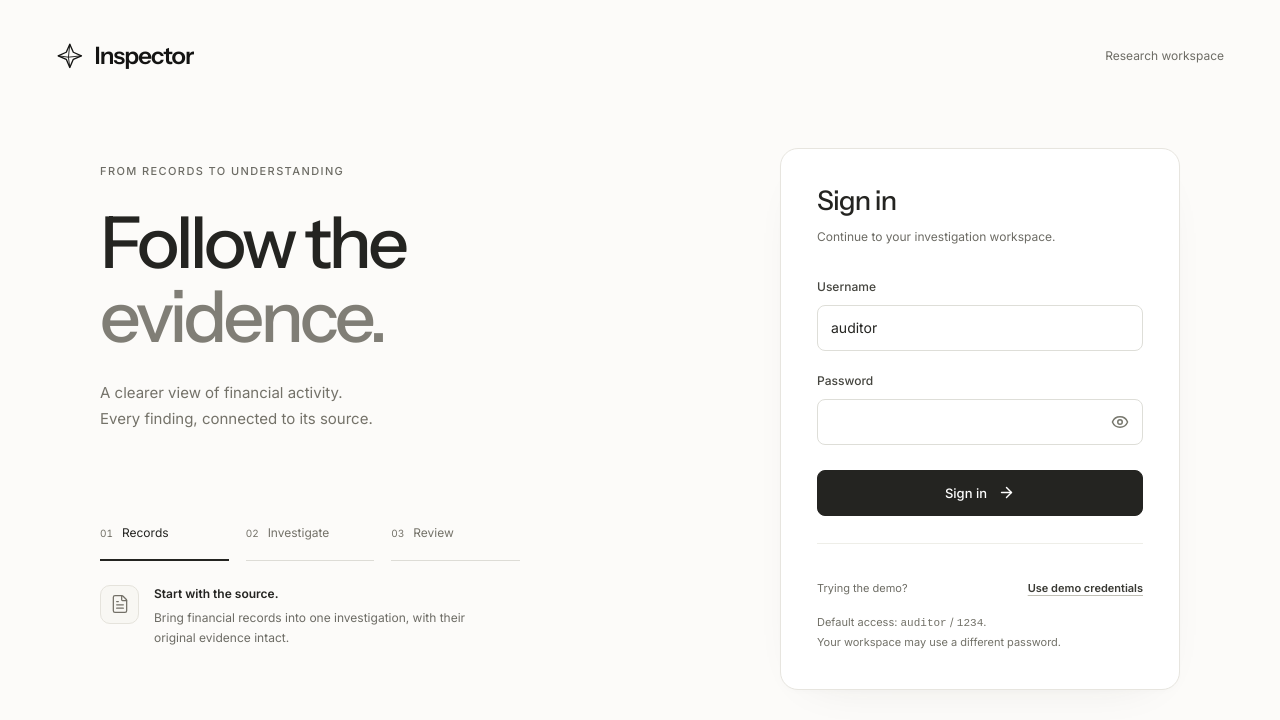
Test: DemoLogin › shows a truthful English error for status 401 / credenciales_invalidas
This screenshot has width=1280, height=720.
Type "1234" into the password field labelled "Password" at point(980, 422), box [817,399,1143,445]
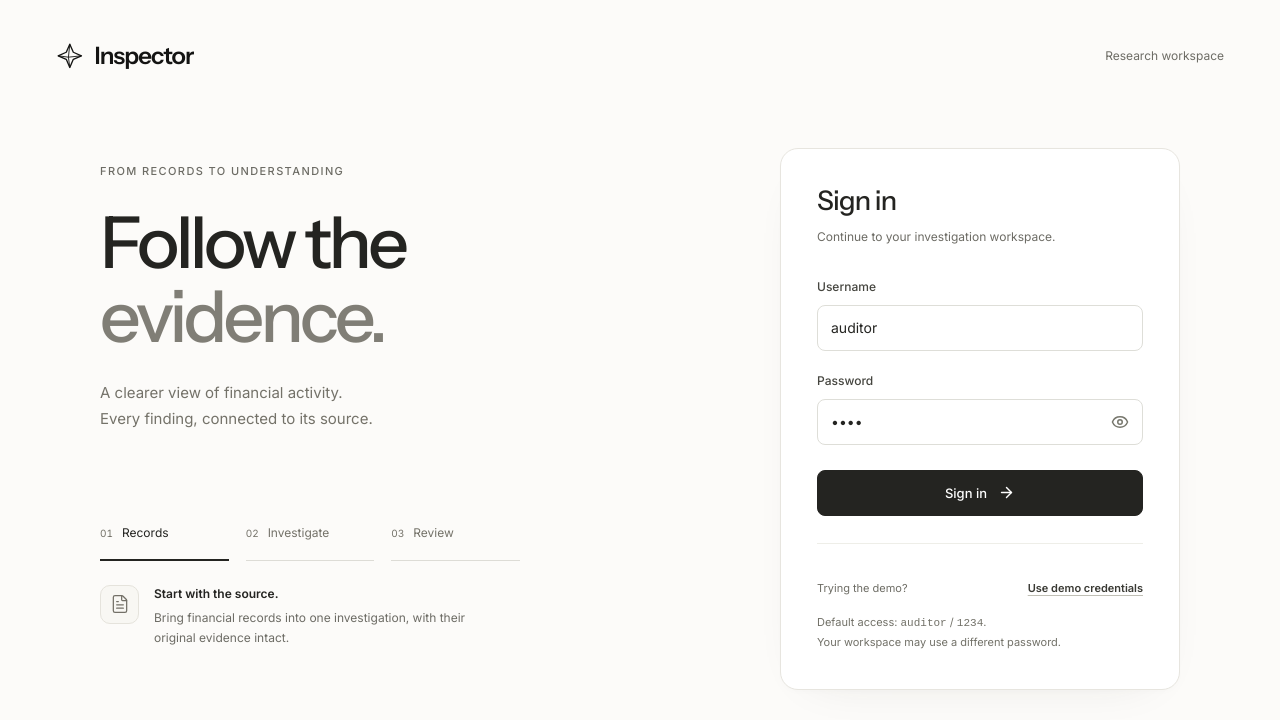
Submit the form "Sign in", box [817,277,1143,516]
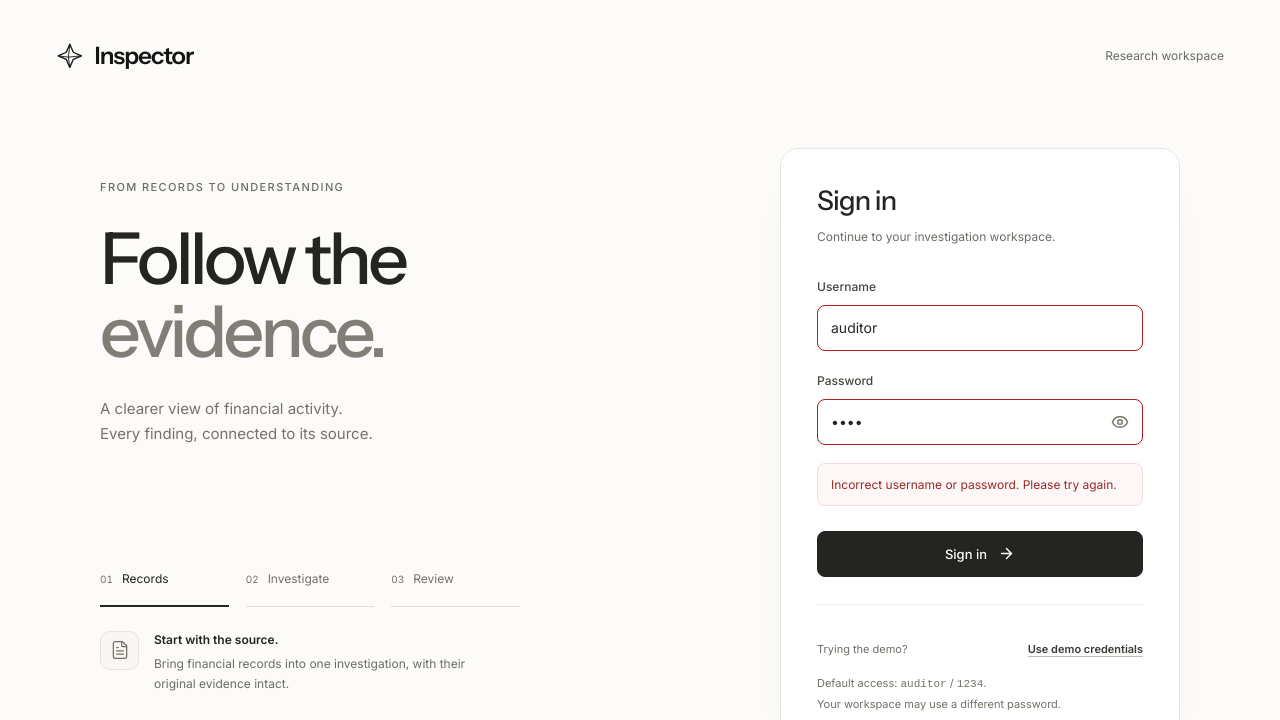
Expected: the button "Sign in" is enabled, [817,531,1143,577]
Result: the message shows "Incorrect username or password." at [831,477,1117,492]
